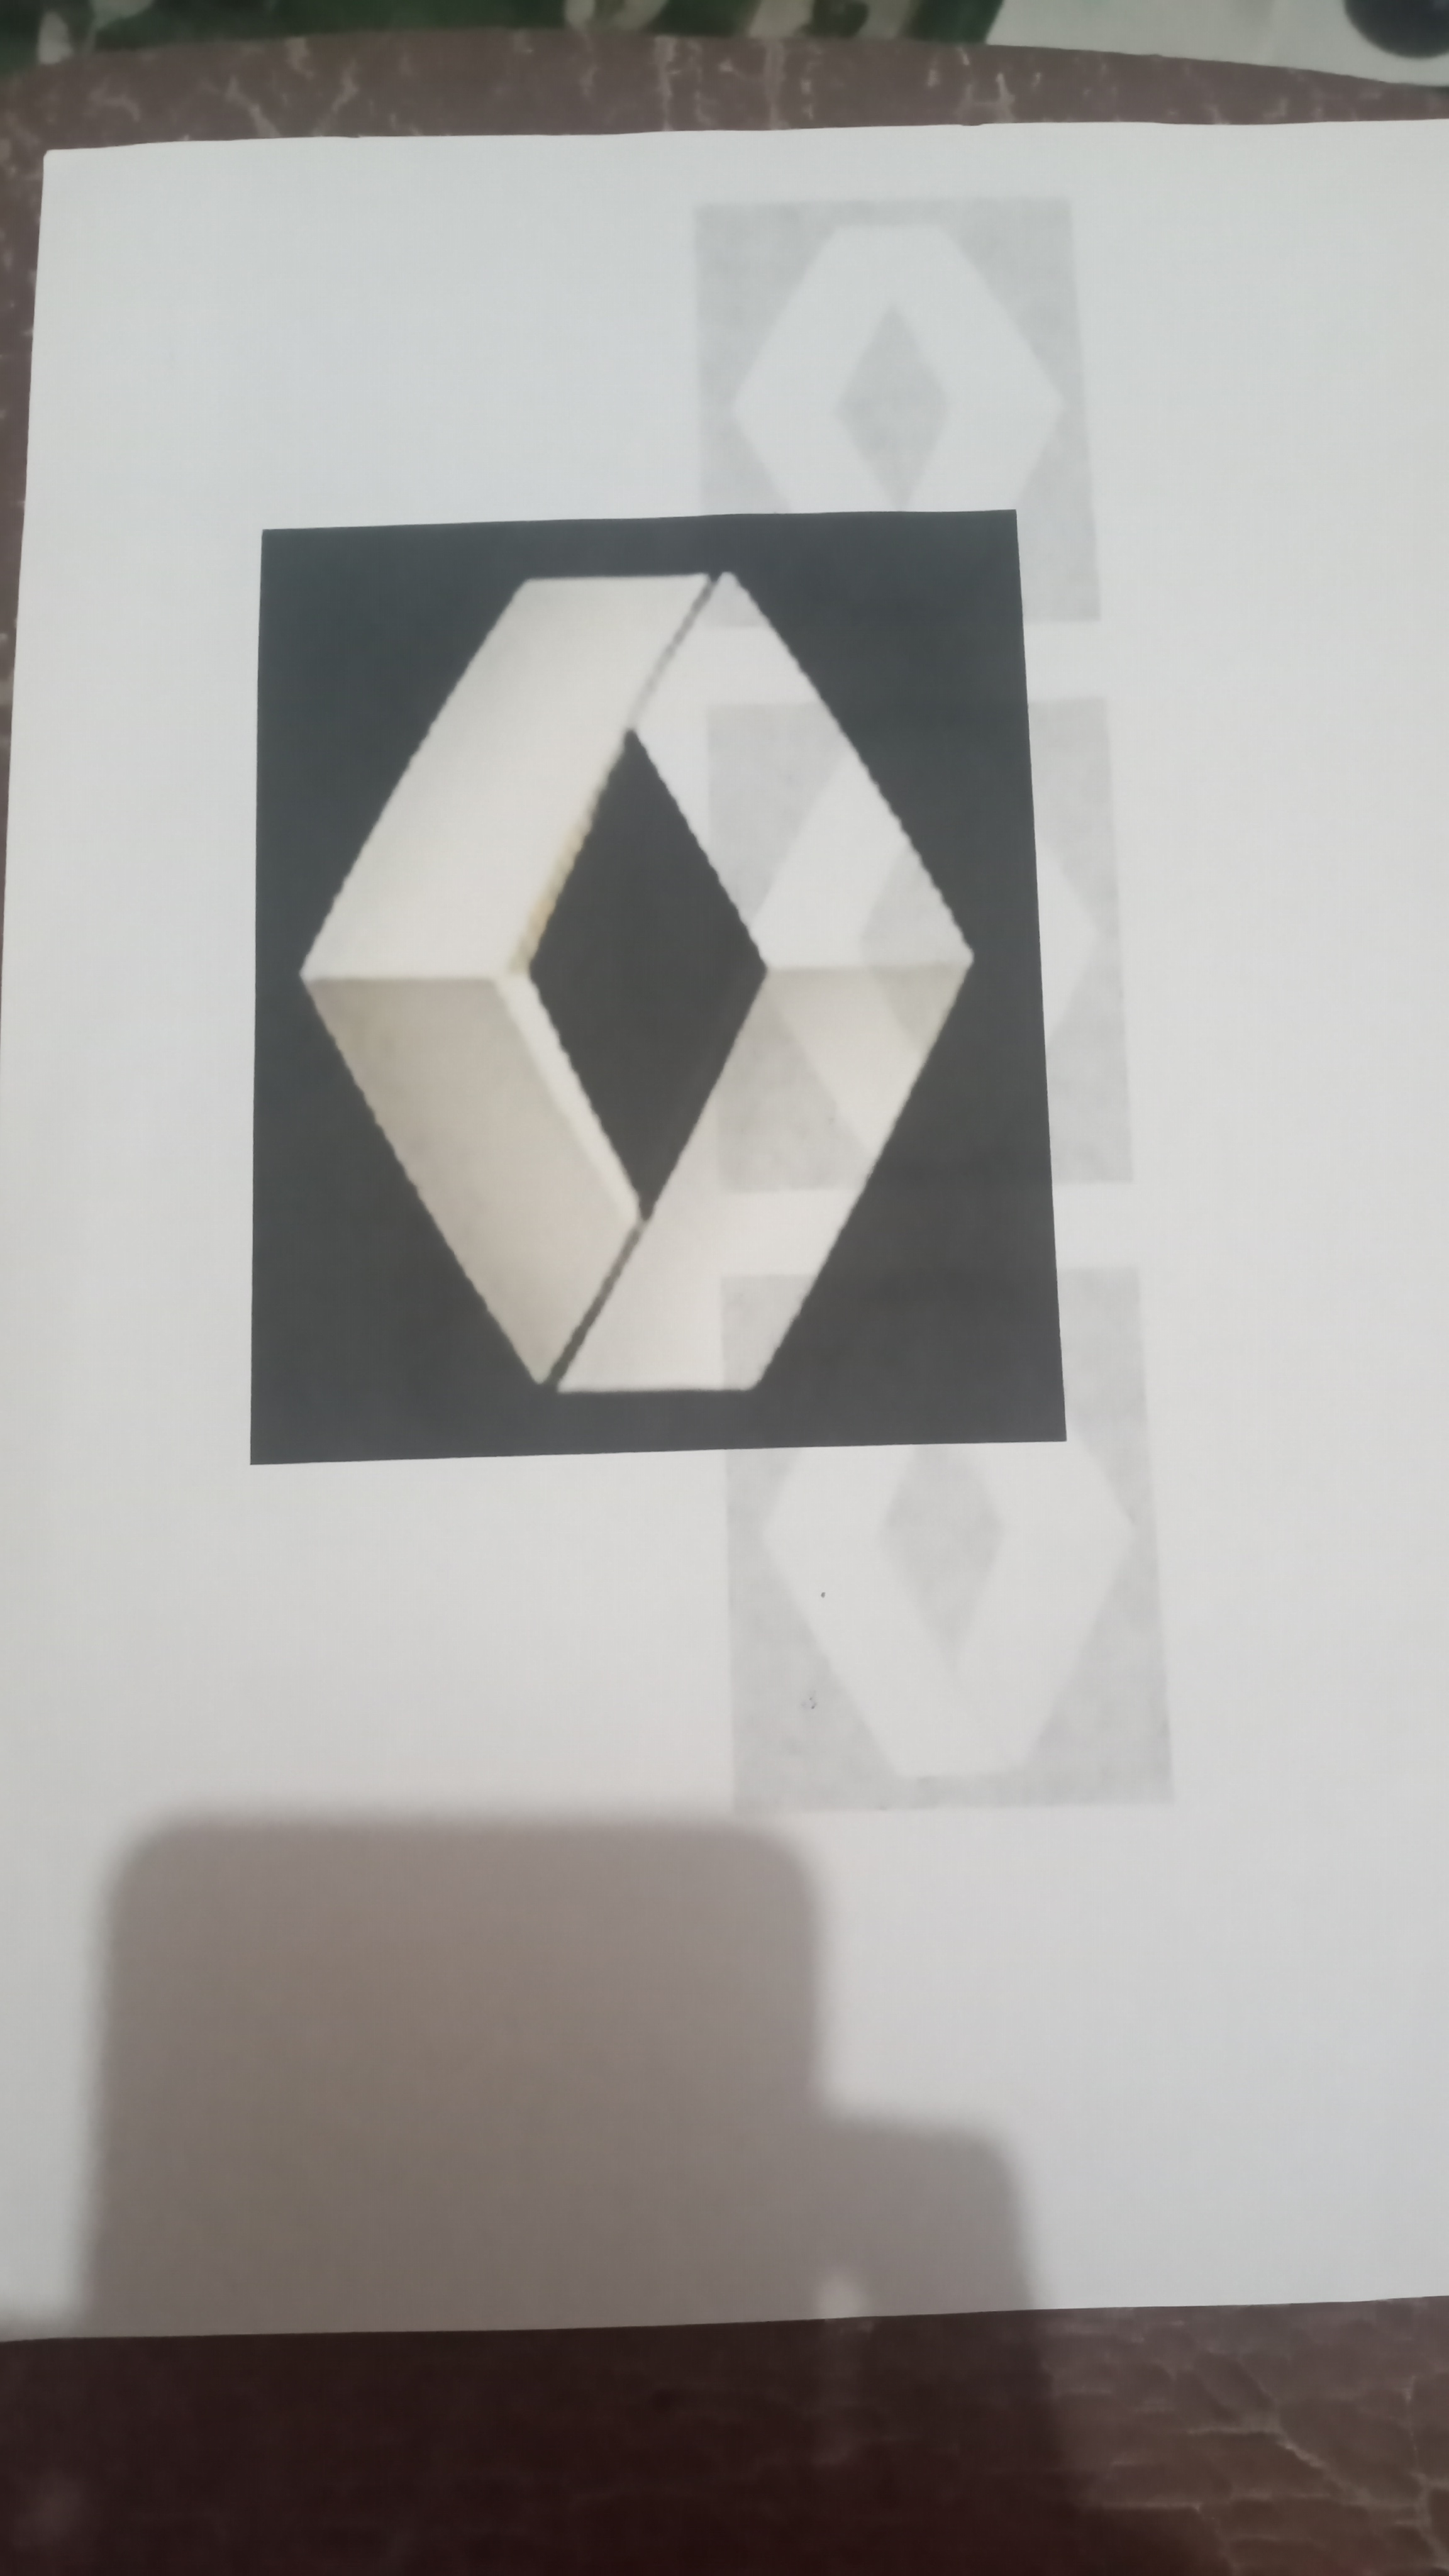Renault: (265, 533, 1008, 1431)
